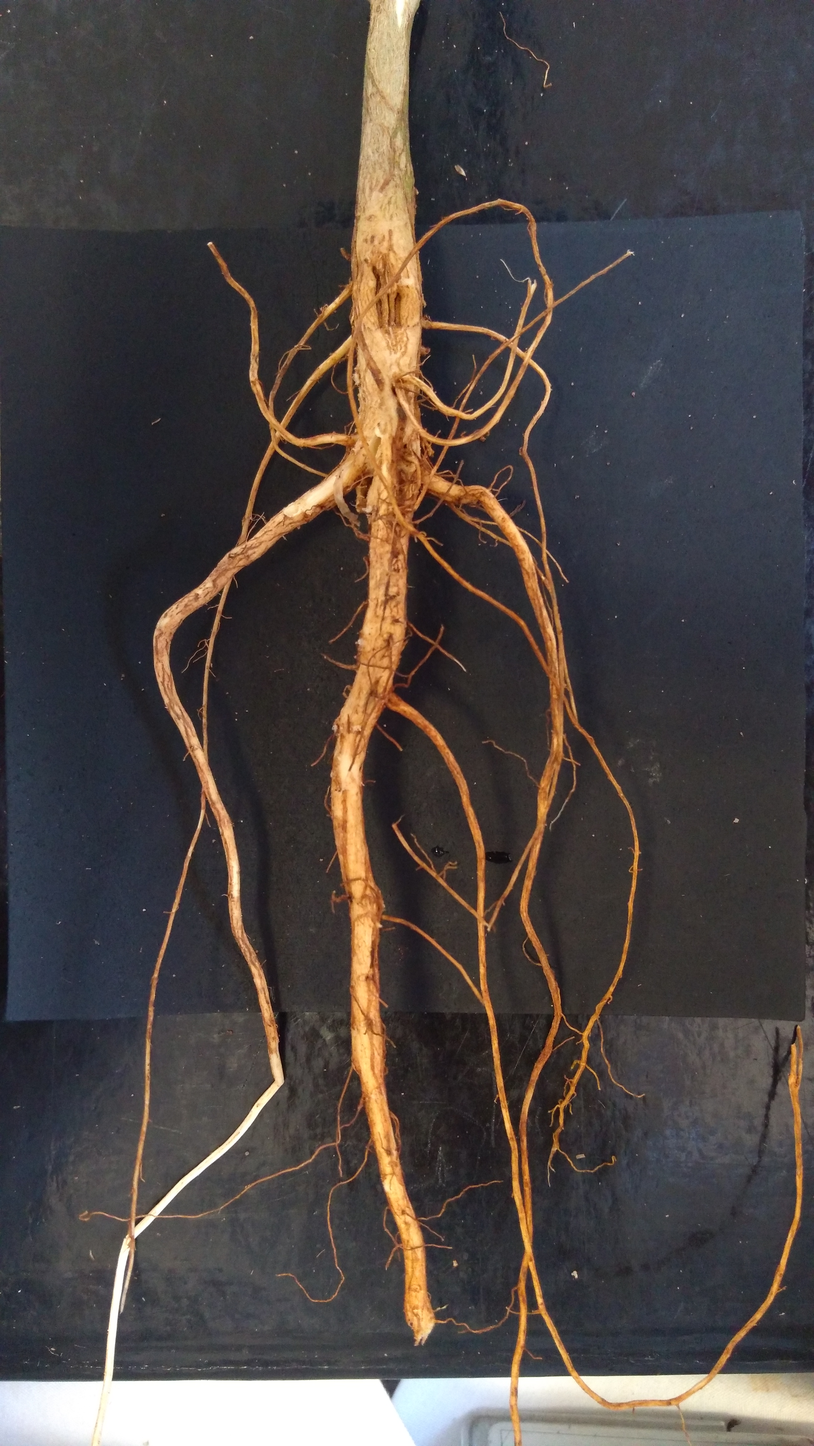nodule: (403, 436, 429, 465), (355, 477, 370, 514), (402, 480, 420, 508), (399, 460, 417, 483), (352, 365, 361, 386), (419, 346, 431, 356), (331, 723, 340, 733), (352, 724, 362, 732), (571, 1270, 578, 1279), (428, 447, 434, 456), (452, 1259, 458, 1267), (414, 187, 419, 196), (422, 299, 426, 308), (480, 436, 486, 442), (383, 724, 386, 727)
